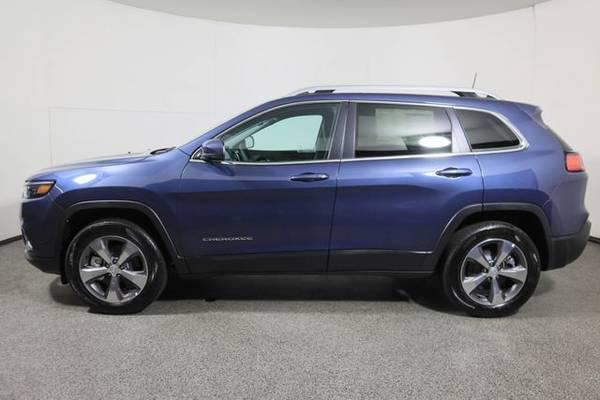Front_Bumper: (21, 196, 70, 276)
Front_Fender: (48, 149, 188, 242)
Front_Left_Door: (172, 158, 339, 276)
Front_Left_Window: (178, 93, 349, 160)
Left_Headlight: (22, 179, 56, 200)
Left_Taillight: (565, 153, 584, 176)
Rear_Bumper: (539, 169, 591, 269)
Rear_Fender: (447, 96, 574, 210)
Rear_Left_Door: (326, 155, 482, 277)
Rear_Left_Window: (341, 94, 473, 158)
Wheel: (65, 212, 167, 311), (445, 219, 541, 317)
